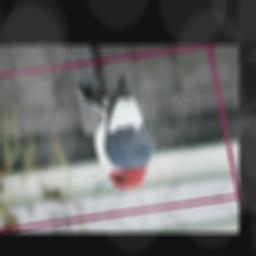Woodpecker: (72, 69, 165, 198)
